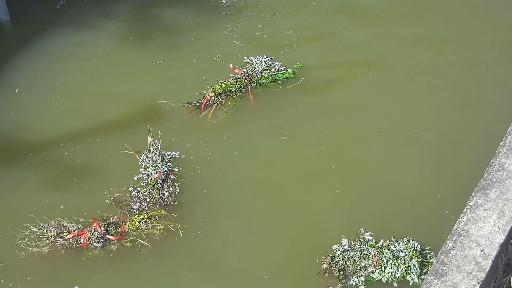twig: (180, 50, 303, 124), (312, 220, 441, 287), (6, 215, 191, 250), (112, 134, 187, 206)
